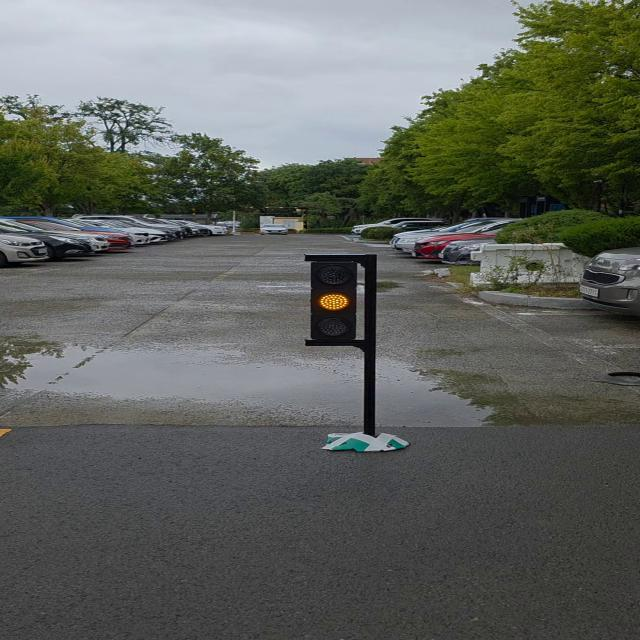yellow: (308, 254, 366, 346)
